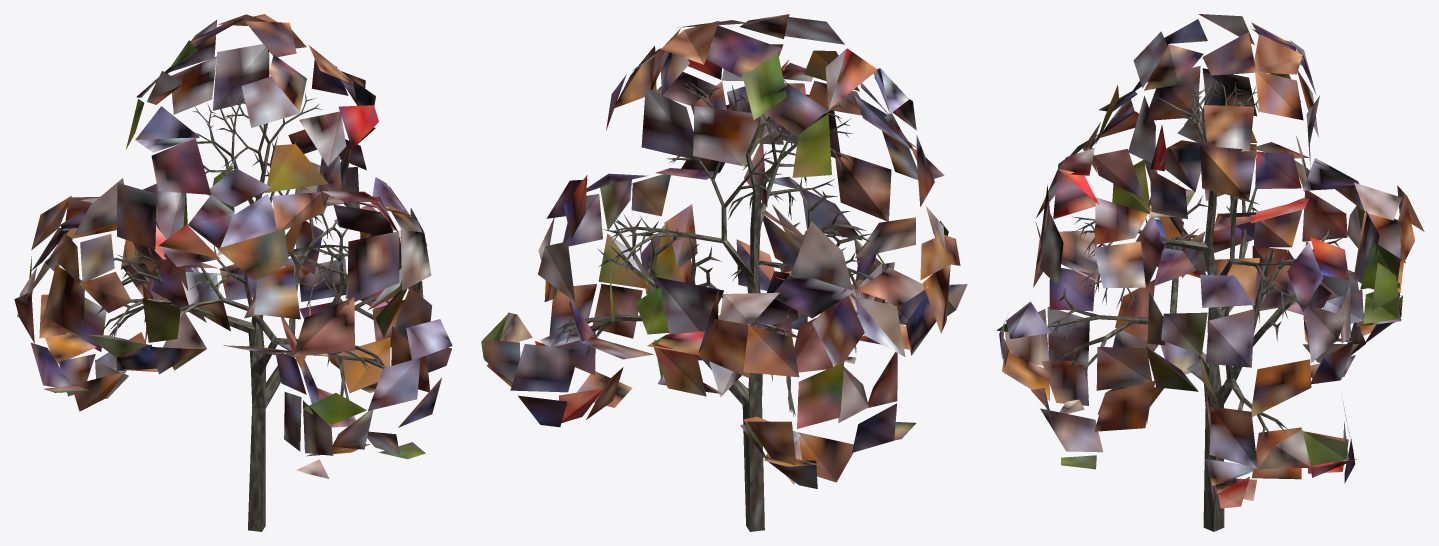
File: Tree03.fbx
3 views of the same model, side by side, from view 1: azimuth 30°, elevation 25°; view 2: azimuth 150°, elevation 25°; view 3: azimuth 270°, elevation 25° (orthographic). The views are drawn at different scales.
Parts seen in each view (by area): view 1: Tree03; view 2: Tree03; view 3: Tree03.
Part boxes in pixels (box(x1,y1,x2,y2)): Tree03: box(14, 14, 452, 531); Tree03: box(481, 14, 967, 531); Tree03: box(996, 14, 1424, 531).
Size of the model in its own units: 761 by 913 by 710.
